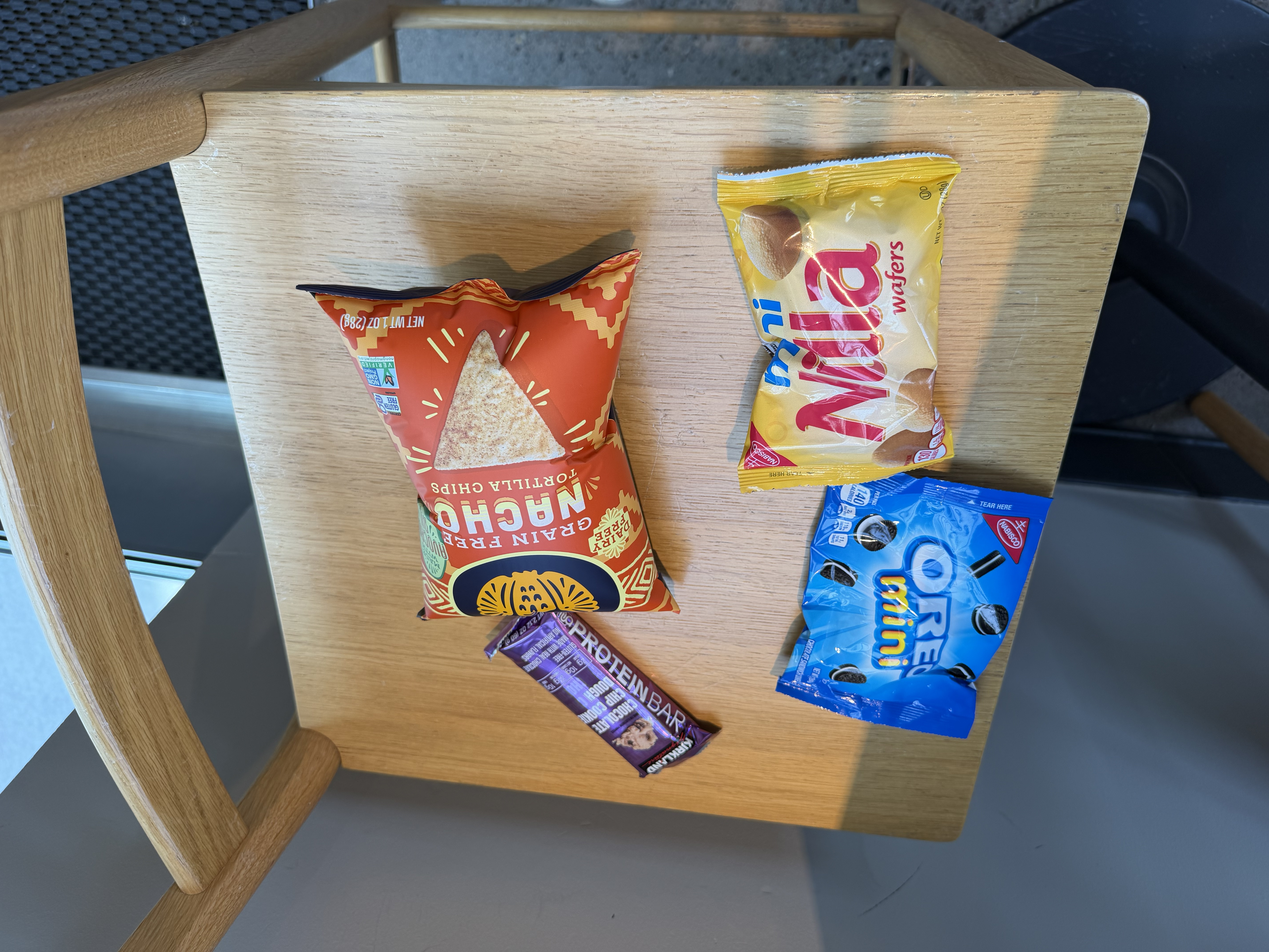chocolate_chip_cookie_dough: (489, 611, 716, 775)
nacho: (290, 267, 700, 623)
nilla: (709, 158, 988, 476)
oreo_mini: (814, 463, 1047, 742)
